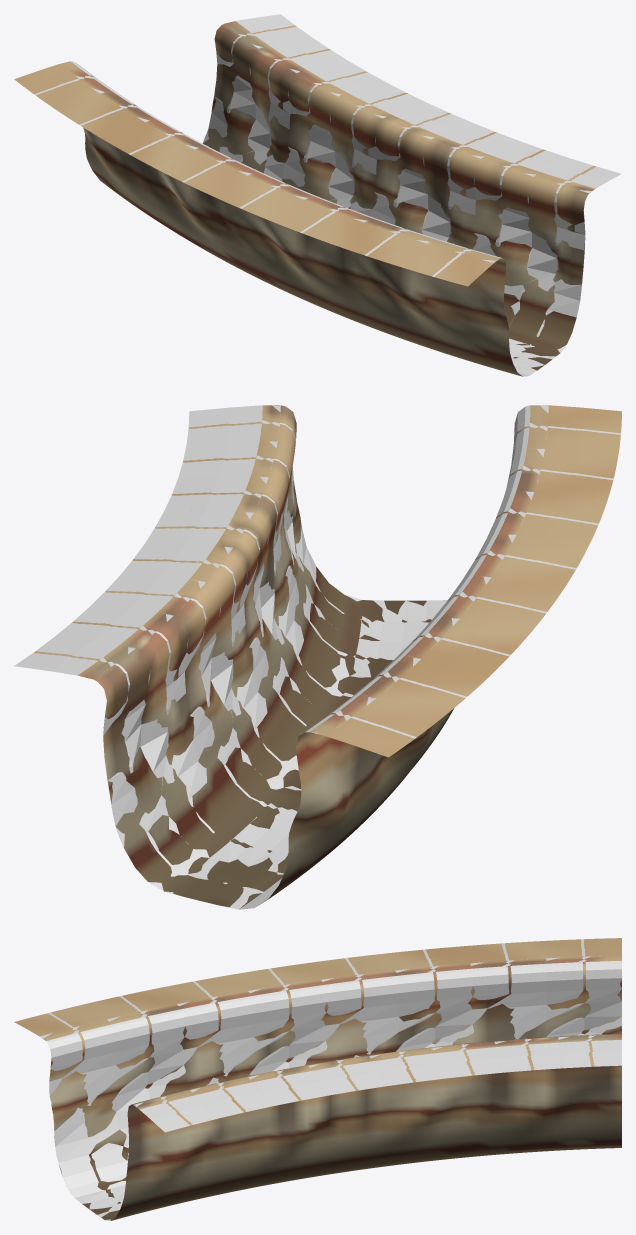
Rendered from slot_canyon_flow_bend30.glb.
3 renders of one model, top to bottom at view 1: azimuth 30°, elevation 25°; view 2: azimuth 150°, elevation 25°; view 3: azimuth 270°, elevation 25°, orthographic. The views are drawn at different scales.
Visible parts, largest first — view 1: slot_canyon_flow_bend30, slot_canyon_flow_bend30-col; view 2: slot_canyon_flow_bend30, slot_canyon_flow_bend30-col; view 3: slot_canyon_flow_bend30, slot_canyon_flow_bend30-col.
Part boxes in pixels (x1,y1,x2,y2): slot_canyon_flow_bend30: (14, 21, 596, 376); slot_canyon_flow_bend30-col: (34, 14, 621, 376); slot_canyon_flow_bend30: (34, 405, 621, 908); slot_canyon_flow_bend30-col: (14, 405, 620, 909); slot_canyon_flow_bend30: (14, 938, 621, 1220); slot_canyon_flow_bend30-col: (40, 939, 621, 1220).
Bounding box in the file's own units: 36.54 × 14.42 × 52.34.
